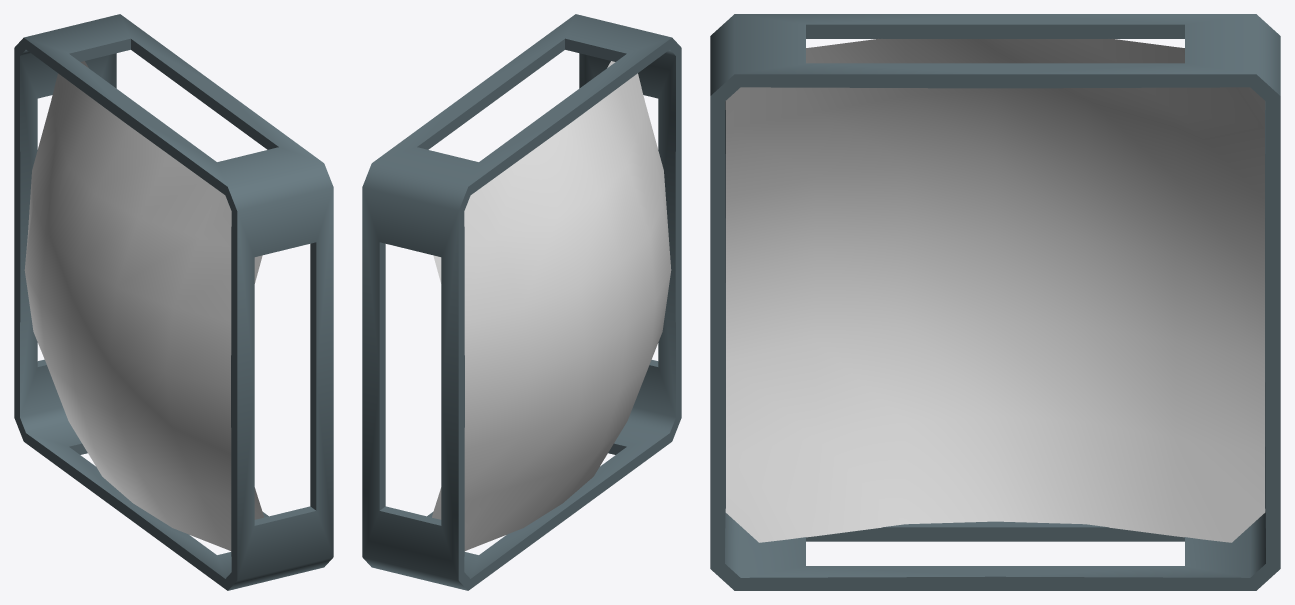
Rendered from fant_sail_frame_4x4_B.fbx.
3 renders of one model, left to right at view 1: azimuth 30°, elevation 25°; view 2: azimuth 150°, elevation 25°; view 3: azimuth 270°, elevation 25°, orthographic. The views are drawn at different scales.
Visible parts, largest first — view 1: fant_sail_frame_4x4.001; view 2: fant_sail_frame_4x4.001; view 3: fant_sail_frame_4x4.001.
Boxes of the visible parts, x1,y1,x2,y2 form: fant_sail_frame_4x4.001: (14, 14, 333, 590); fant_sail_frame_4x4.001: (362, 14, 681, 590); fant_sail_frame_4x4.001: (710, 14, 1280, 590).
Size of the model in its own units: 158 by 400 by 400.
